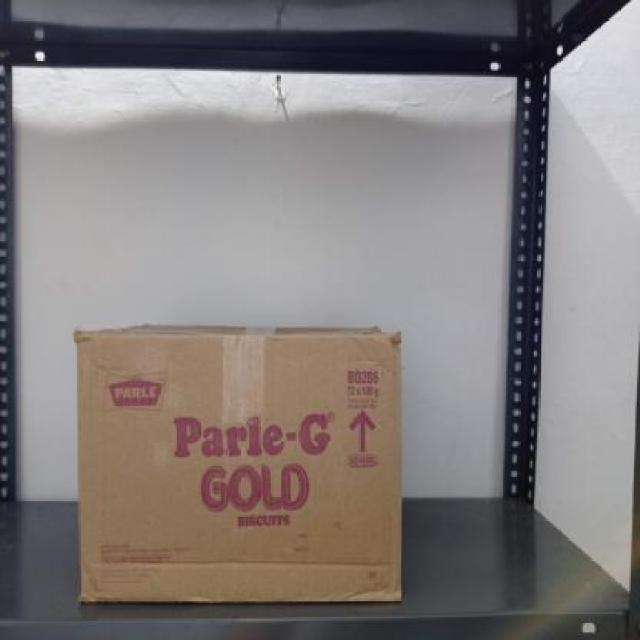box: (74, 333, 403, 604)
